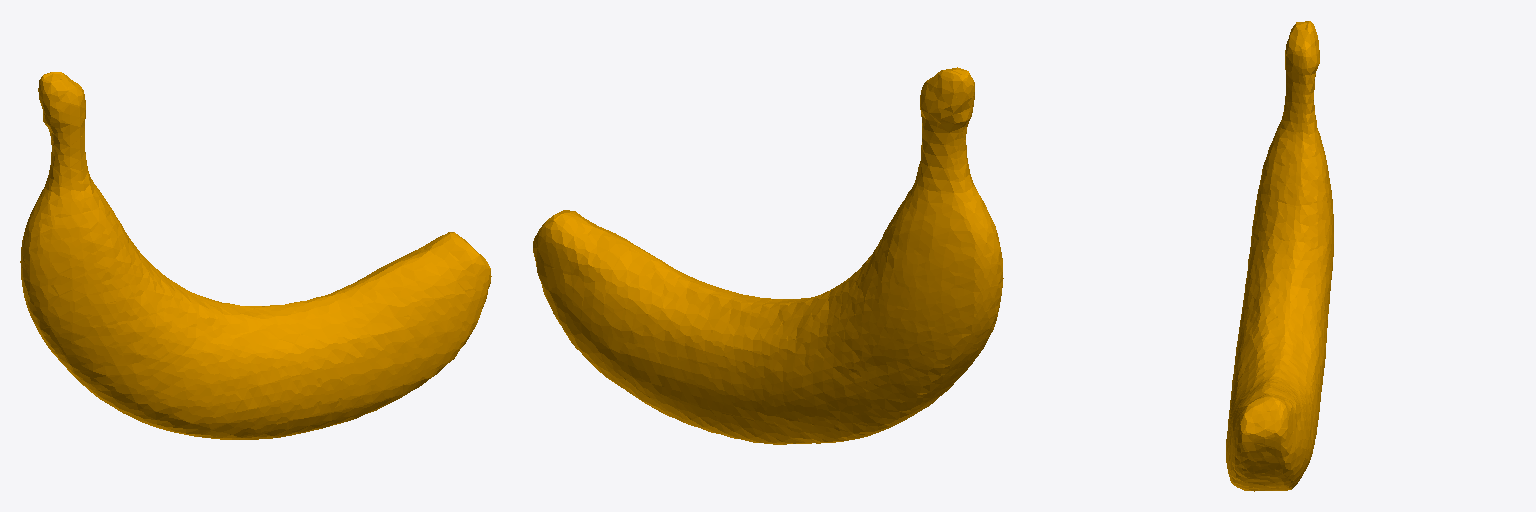
robot.urdf — model_1778240095:
<?xml version="1.0" ?>
<robot name="model_1778240095">
  <link name="base_link">
    <inertial>
      <origin xyz="0.022671160942950186 -0.13604742868794287 1.3059378083381719" rpy="0 0 0"/>
      <mass value="1.1689014454353817"/>
      <inertia ixx="0.2715806907337175" ixy="0.2497162730970323" ixz="-0.06231044741026131" iyy="0.7666755289431018" iyz="0.029076669767277817" izz="0.9810823164377054"/>
    </inertial>
    <visual>
      <origin xyz="0 0 1.292724072933197" rpy="0 0 0"/>
      <geometry>
        <mesh filename="visual.obj" scale="3.0 3.0 3.0"/>
      </geometry>
    </visual>
    <collision>
      <origin xyz="0 0 1.292724072933197" rpy="0 0 0"/>
      <geometry>
        <mesh filename="collision.obj" scale="3.0 3.0 3.0"/>
      </geometry>
    </collision>
  </link>
</robot>

--- Render facts (derived) ---
The picture shows the robot from 3 angles, left to right: view 1: azimuth 30°, elevation 25°; view 2: azimuth 150°, elevation 25°; view 3: azimuth 270°, elevation 25°; orthographic projection.
Model model_1778240095 with 1 links and 0 joints (none), rooted at base_link, posed every joint at zero.
Visible links, largest first — view 1: base_link; view 2: base_link; view 3: base_link.
Link boxes in pixels (bbox=[...]): base_link: bbox=[20, 72, 491, 439]; base_link: bbox=[533, 67, 1003, 444]; base_link: bbox=[1226, 21, 1333, 491].
Bounding box of the posed robot: 3 × 0.7244 × 2.59 m (x, y, z).
1 mesh visuals loaded from 1 distinct referenced files (1 OBJ).
